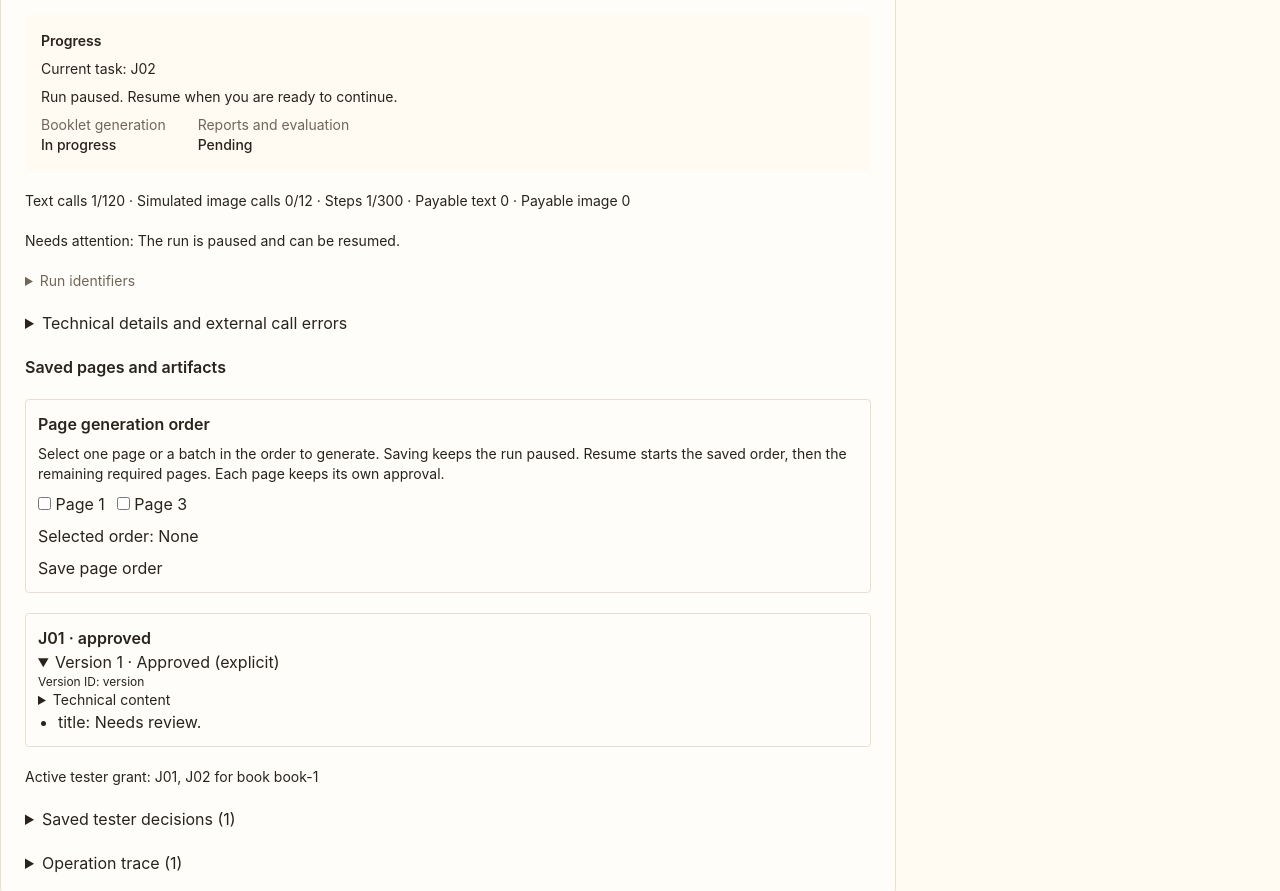
Test: booklet runner inspector › saves selected page order without resuming or replaying after uncertain response=true
The width and height of the screenshot is (1280, 891).
(page scrolled)
Click the checkbox labelled "Page 3" at (123,504), box [117,497,130,510]
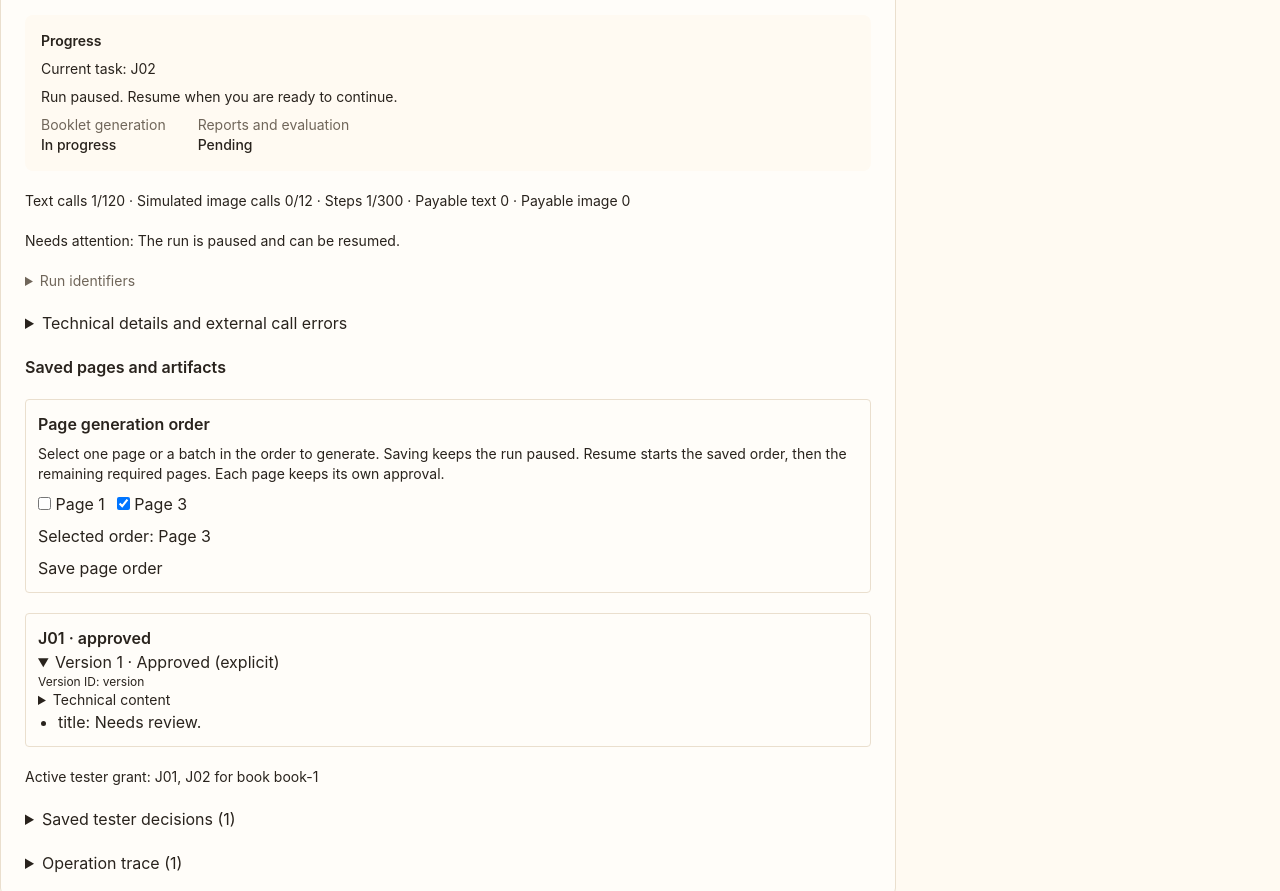
Click the checkbox labelled "Page 1" at (44,504), box [38,497,51,510]
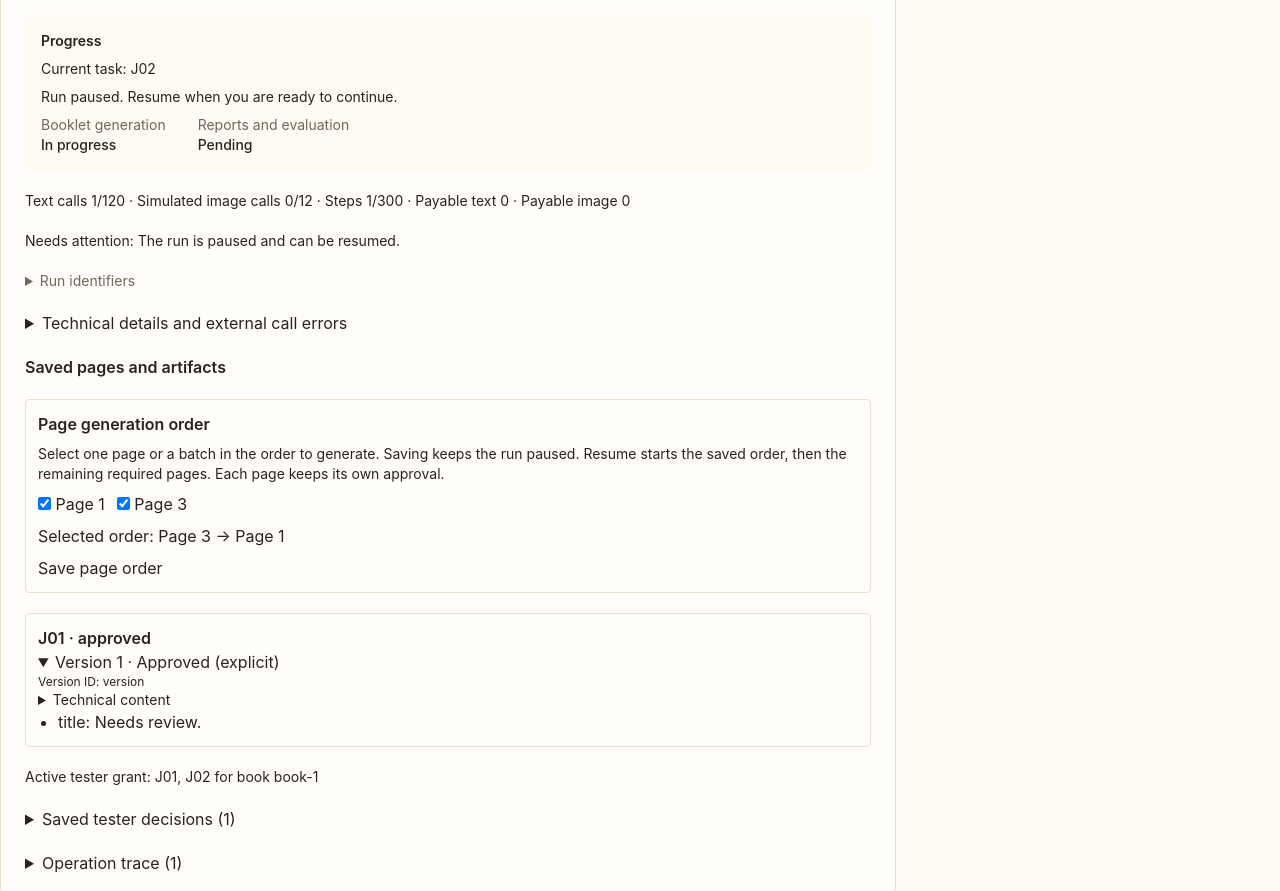
Result: the text "Selected order: Page 3 → Page 1" is shown at [38,526,285,546]
Click the button "Save page order" at (100,568), box [38,556,163,580]
(page scrolled)
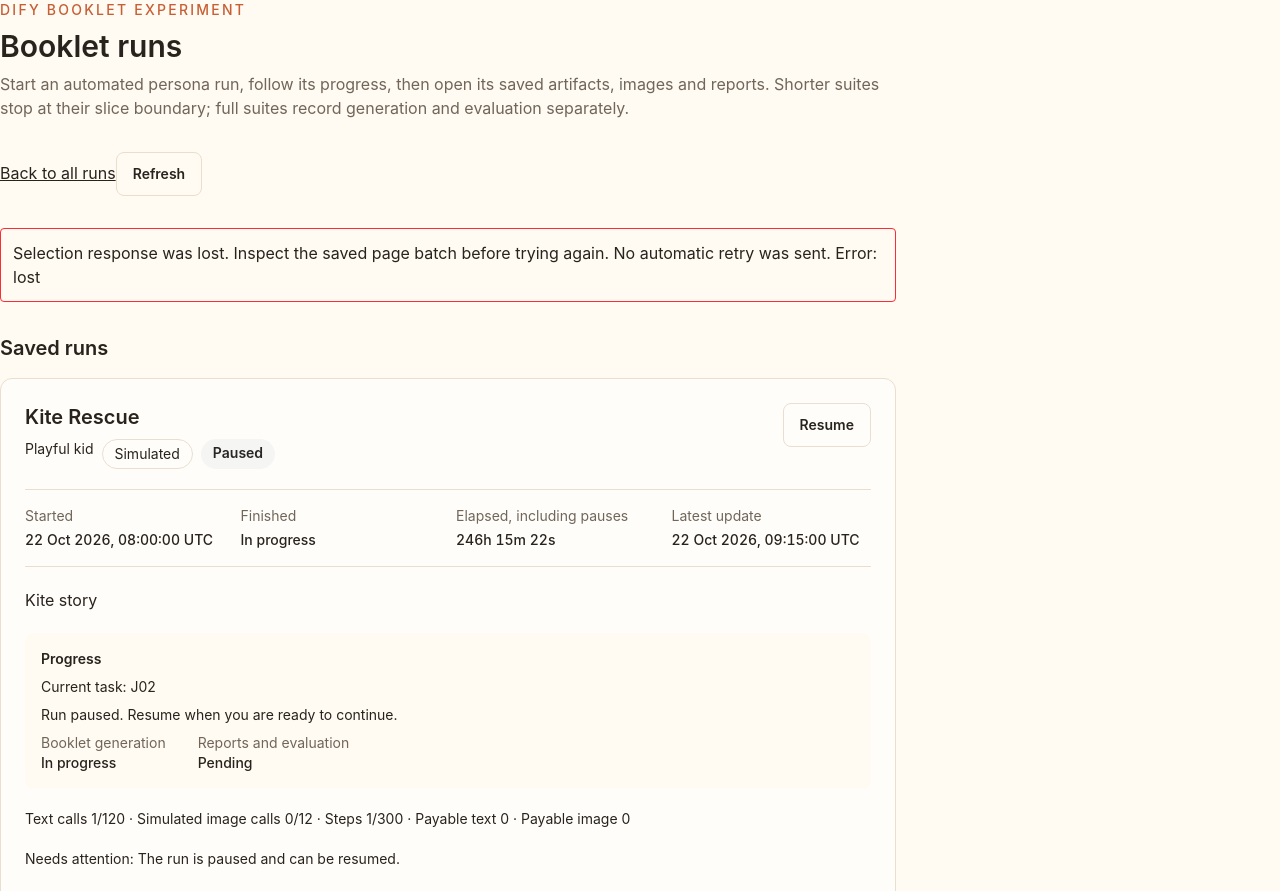
Expected: the button "Resume" is shown, [783,403,871,447]
Result: the message shows "No automatic retry" at [13,243,877,287]
